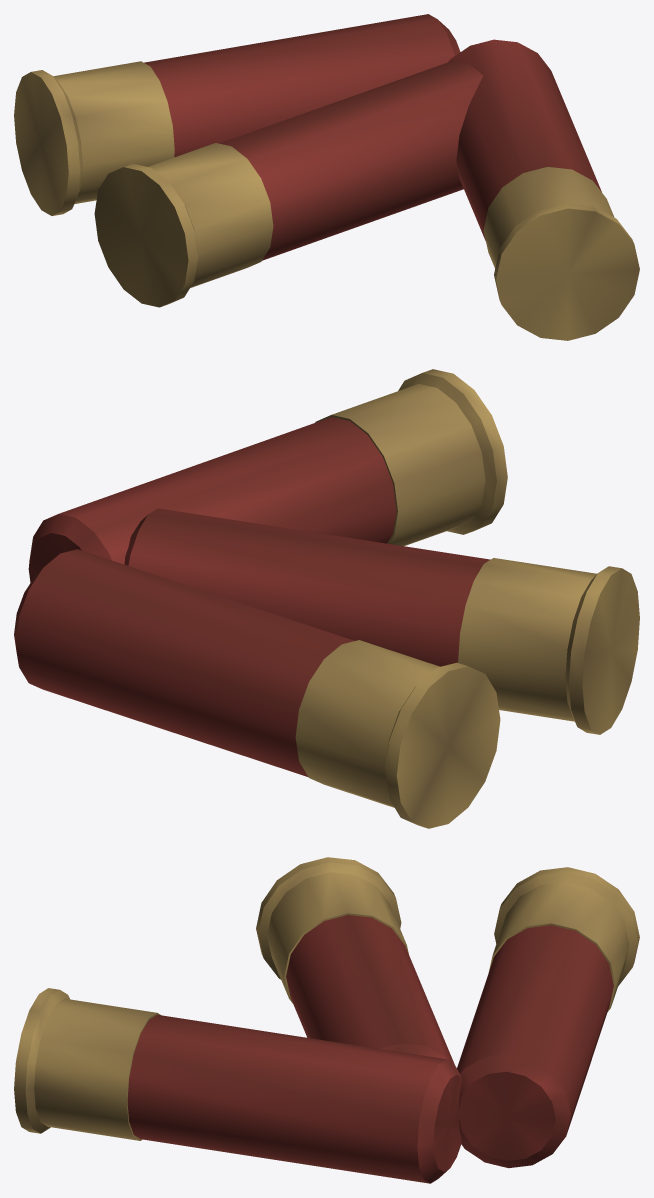
The model's file is shotgun-shell.glb.
3 renders of one model, top to bottom at view 1: azimuth 30°, elevation 25°; view 2: azimuth 150°, elevation 25°; view 3: azimuth 270°, elevation 25°, orthographic. The views are drawn at different scales.
Visible parts, largest first — view 1: shotgun-shell; view 2: shotgun-shell; view 3: shotgun-shell.
Boxes of the visible parts, x1=… form: shotgun-shell: x1=14, y1=14, x2=639, y2=340; shotgun-shell: x1=14, y1=369, x2=639, y2=828; shotgun-shell: x1=14, y1=857, x2=639, y2=1183.
Bounding box in the file's own units: 0.0877 × 0.0236 × 0.1015.
